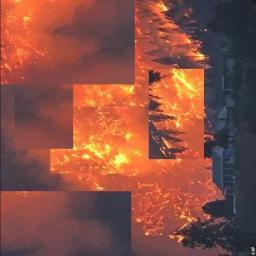Heavy smoke: (3, 63, 69, 186), (2, 190, 115, 252)
Large fire: (67, 5, 225, 240)
